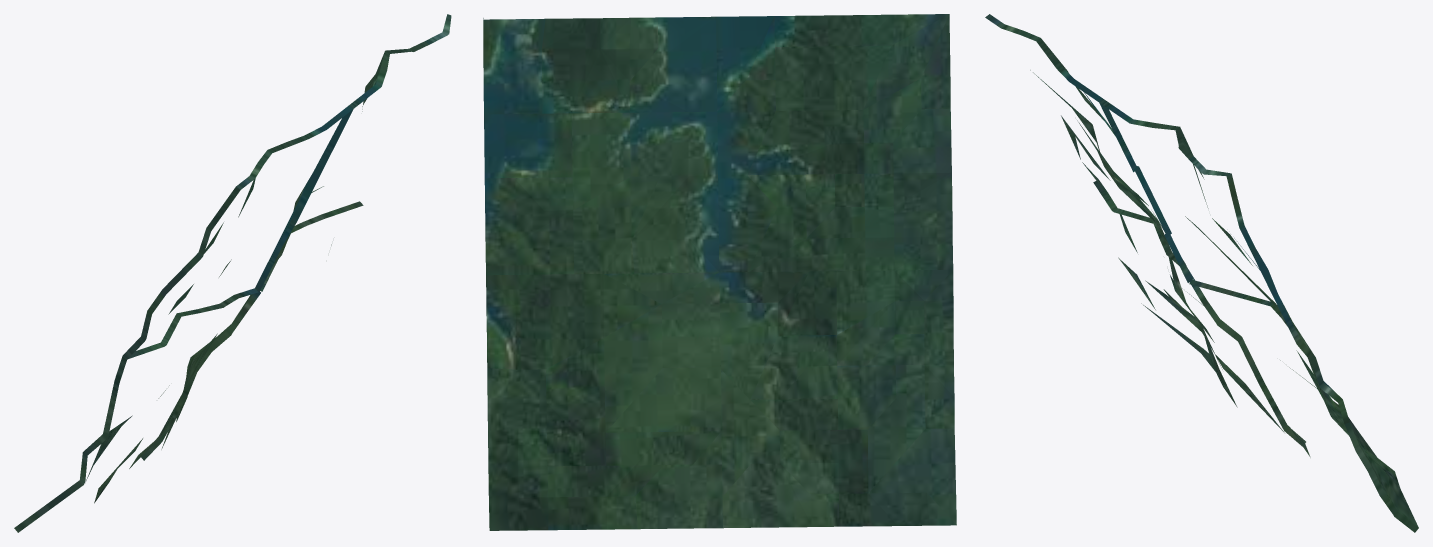
3 renders of one model, left to right at view 1: azimuth 30°, elevation 25°; view 2: azimuth 150°, elevation 25°; view 3: azimuth 270°, elevation 25°, orthographic. The views are drawn at different scales.
Bounding box in the file's own units: 5089 × 4458 × 4264.
Materials: 1 (1 with a texture image).
